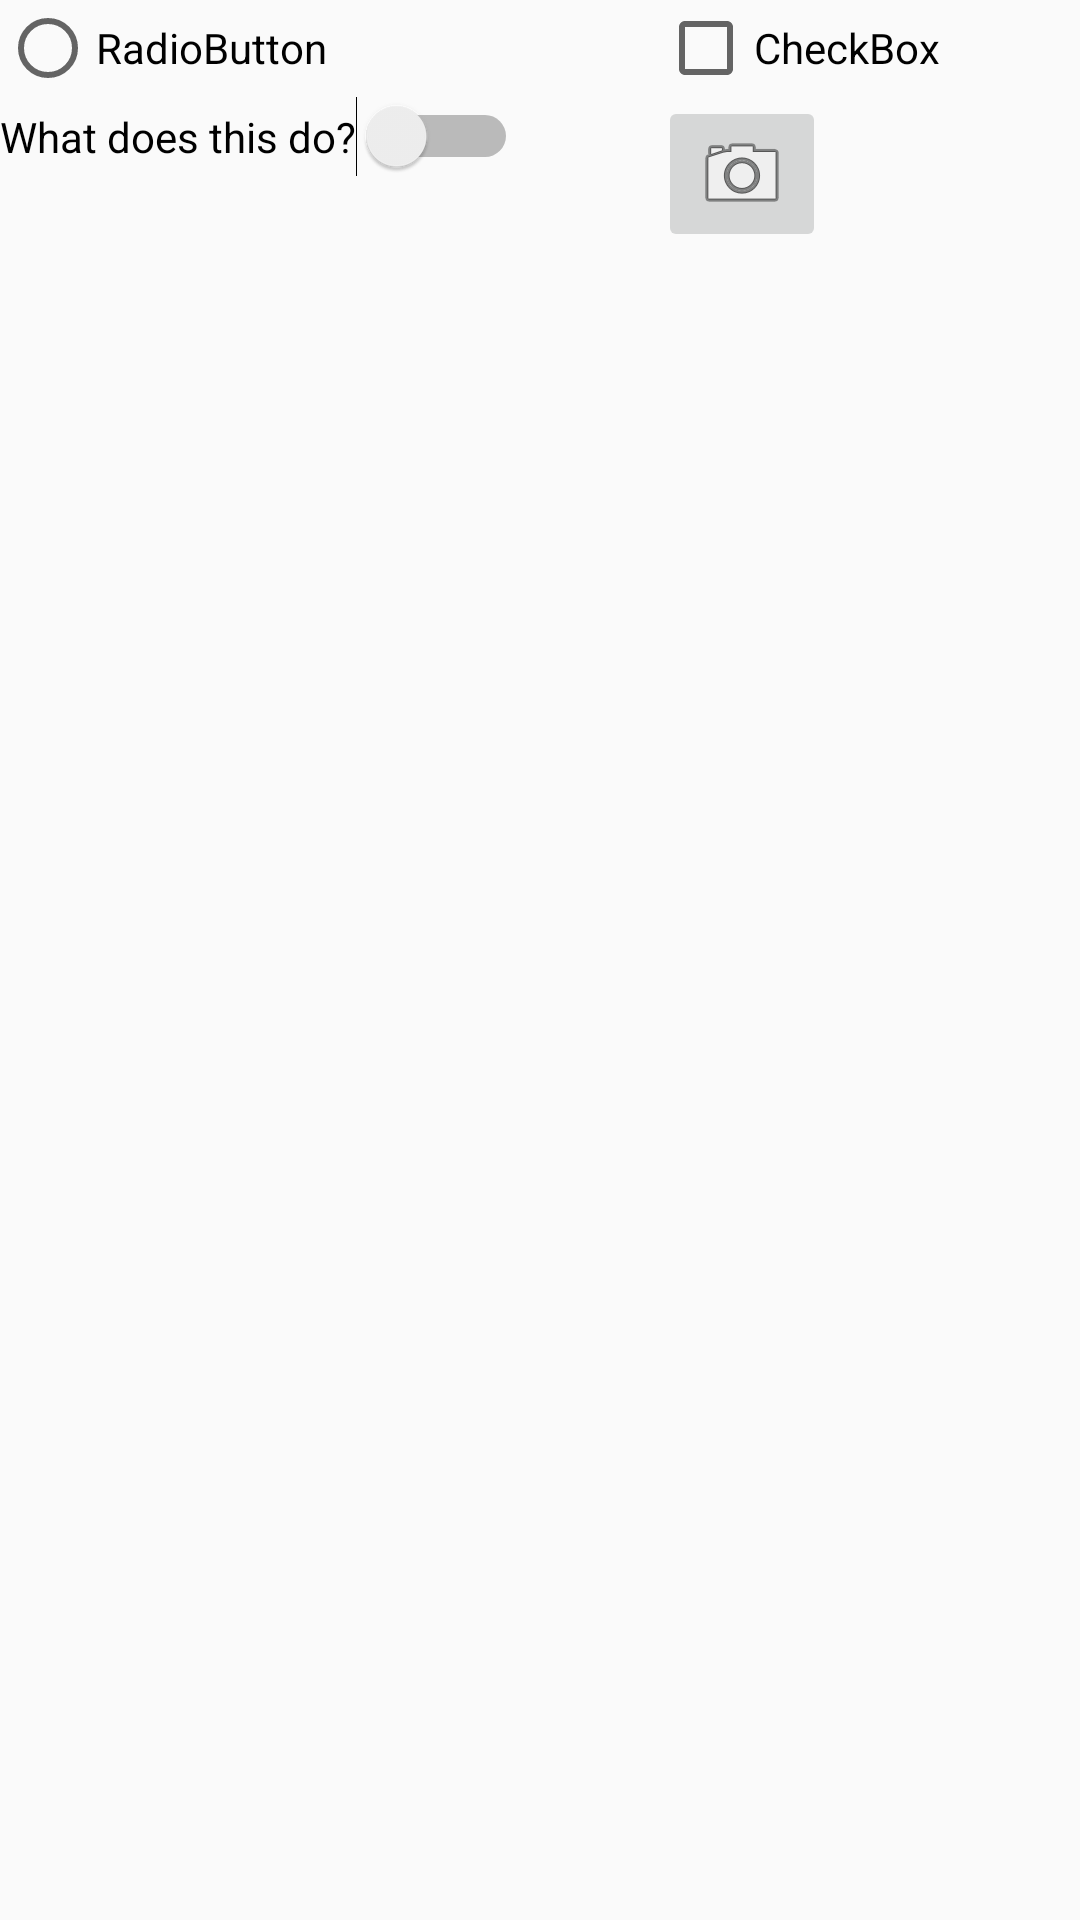

Icons on this 1080px x 1920px Android screen, each with the point to tap as (x,y):
camera: (742,174)
